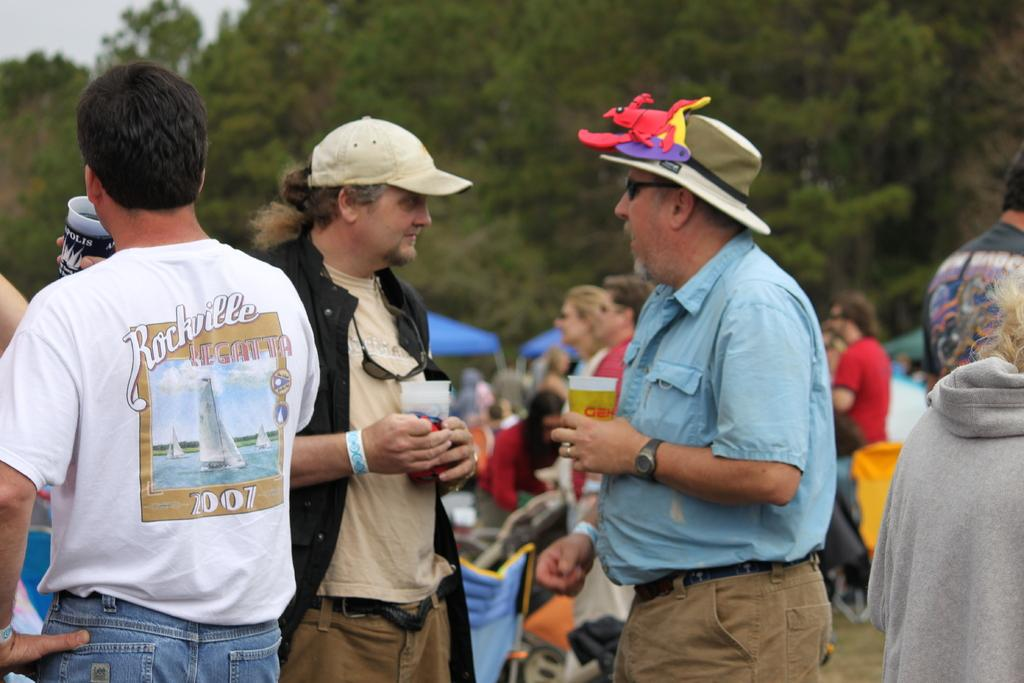Hat: (598, 111, 771, 235), (304, 115, 474, 198)
